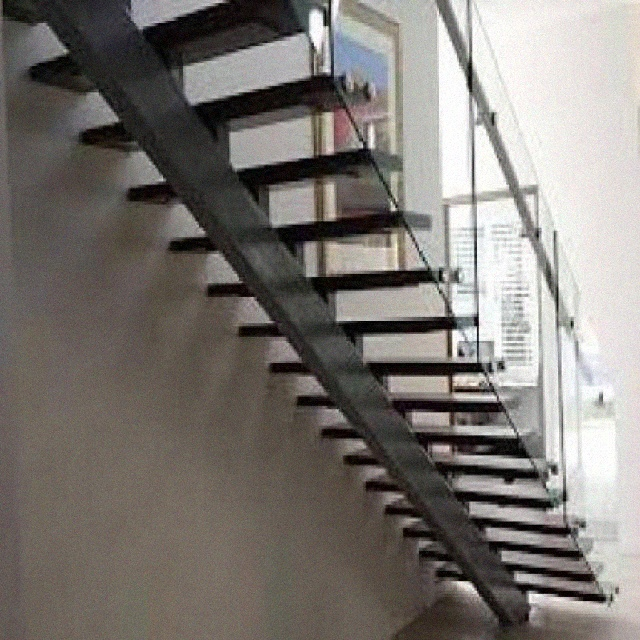stair: (45, 11, 623, 615)
